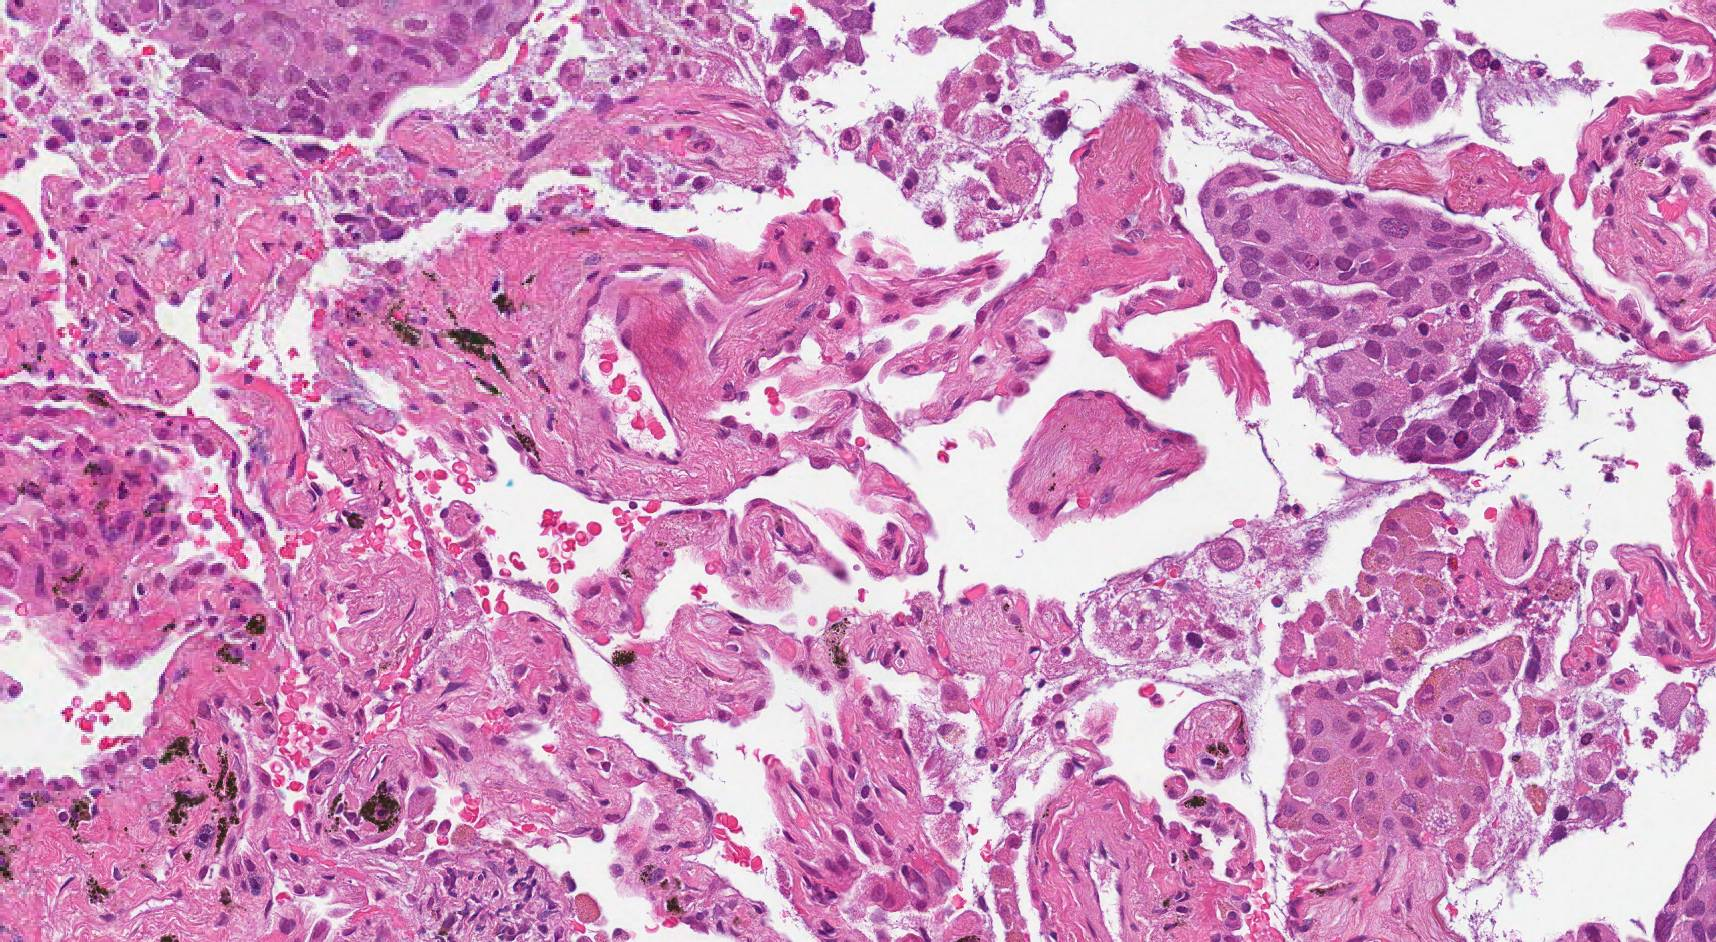stas: (1198, 161, 1561, 462), (1308, 7, 1461, 126)
